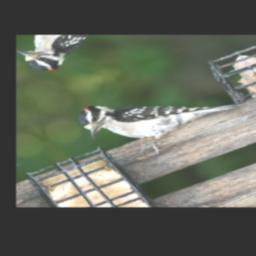Woodpecker: (69, 64, 255, 169)
